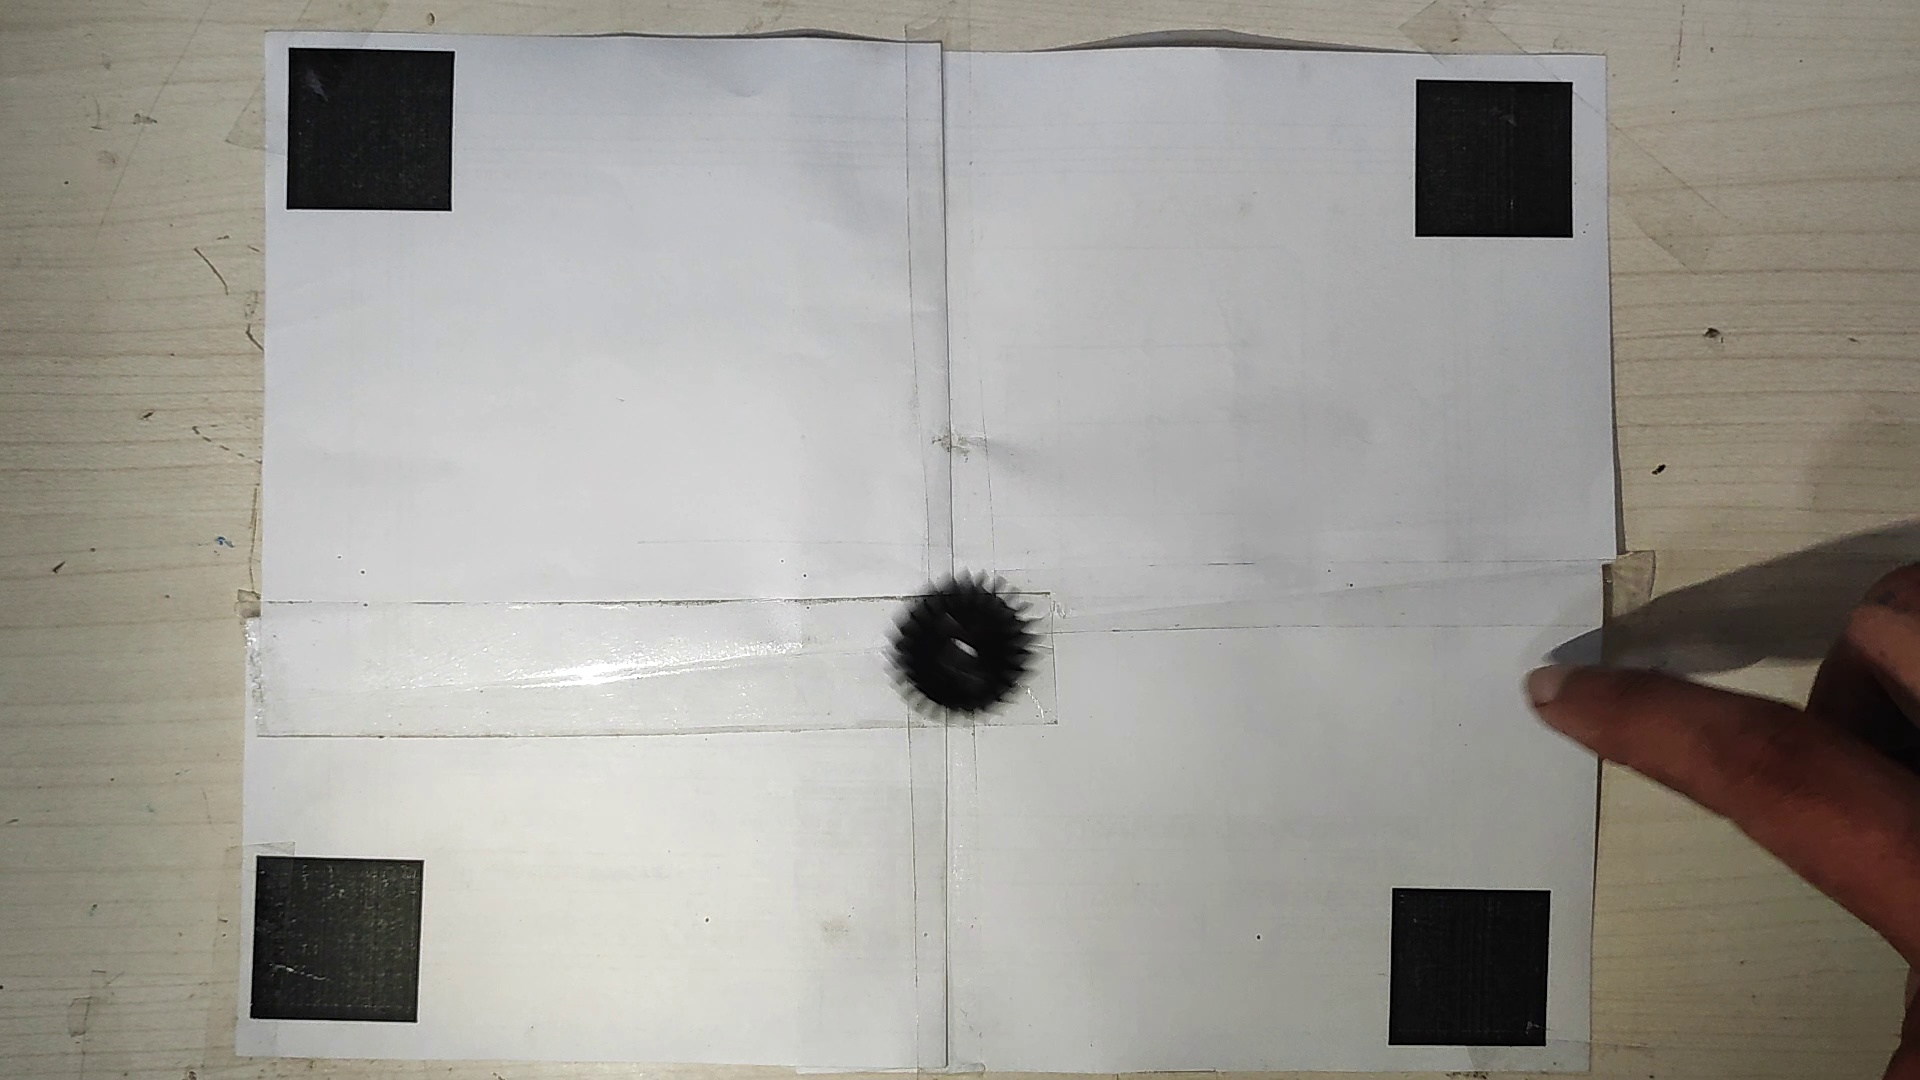Gear: (875, 558, 1050, 726)
